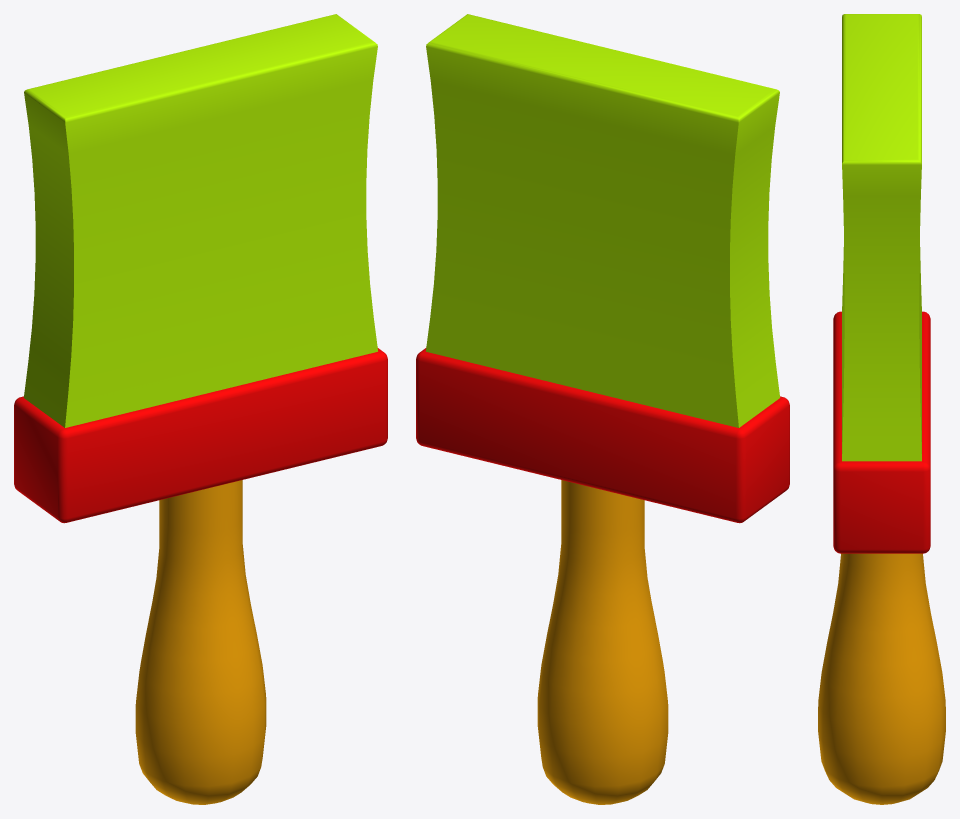
Rendered from CartoonPaintbrush_FBX.fbx.
The picture shows the model from 3 angles, left to right: view 1: azimuth 30°, elevation 25°; view 2: azimuth 150°, elevation 25°; view 3: azimuth 270°, elevation 25°; orthographic projection. The views are drawn at different scales.
Parts seen in each view (by area): view 1: Paintbrush; view 2: Paintbrush; view 3: Paintbrush.
Part boxes in pixels (left/top/right/bottom): Paintbrush: left=14, top=14, right=387, bottom=804; Paintbrush: left=416, top=14, right=789, bottom=804; Paintbrush: left=818, top=14, right=945, bottom=804.
Size of the model in its own units: 12.46 by 26.5 by 4.31.
